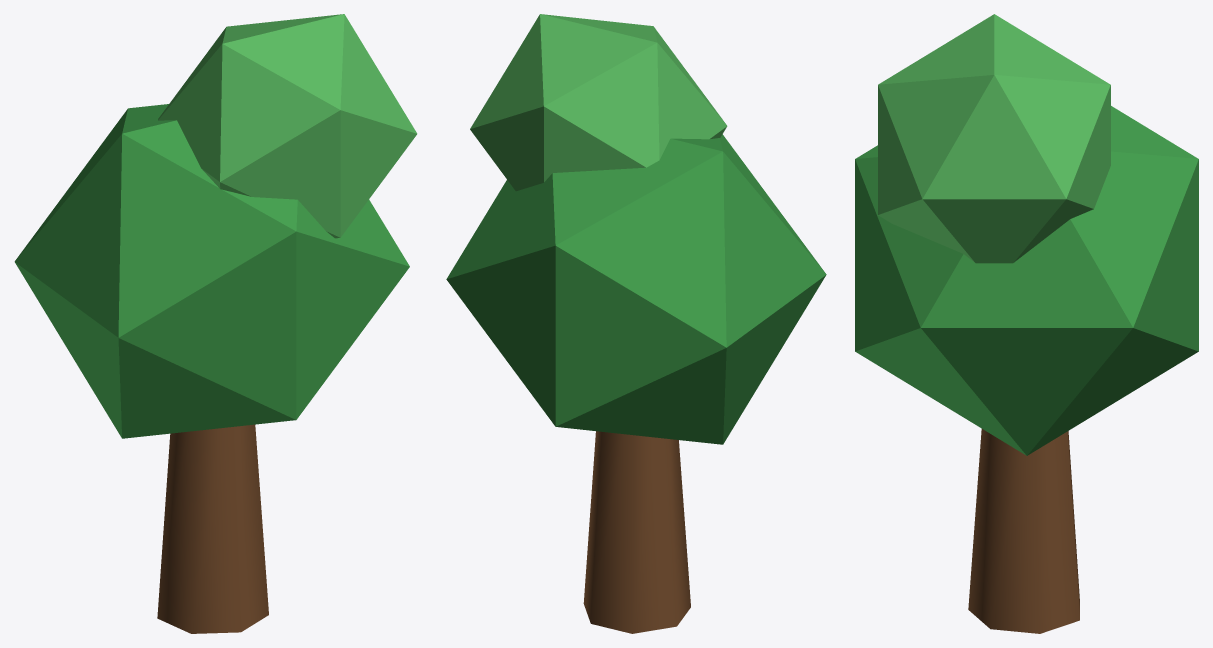
Rendered from tree.glb.
The picture shows the model from 3 angles, left to right: view 1: azimuth 30°, elevation 25°; view 2: azimuth 150°, elevation 25°; view 3: azimuth 270°, elevation 25°; orthographic projection. The views are drawn at different scales.
Parts seen in each view (by area): view 1: tree_leaves1, tree_leaves2, tree_trunk; view 2: tree_leaves1, tree_leaves2, tree_trunk; view 3: tree_leaves1, tree_leaves2, tree_trunk.
Boxes of the visible parts, x1,y1,x2,y2 form: tree_leaves1: [14, 104, 409, 438]; tree_leaves2: [158, 14, 417, 238]; tree_trunk: [157, 424, 268, 633]; tree_leaves1: [446, 134, 826, 444]; tree_leaves2: [470, 14, 727, 191]; tree_trunk: [583, 431, 690, 633]; tree_leaves1: [855, 106, 1198, 455]; tree_leaves2: [878, 14, 1110, 263]; tree_trunk: [968, 429, 1079, 633].
Bounding box in the file's own units: 1.08 × 2.01 × 1.05.
